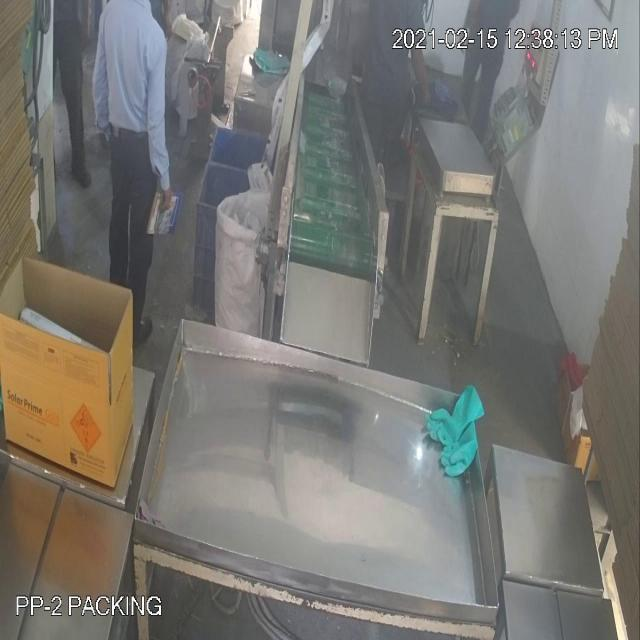No_Gloves: (24, 76, 421, 174)
